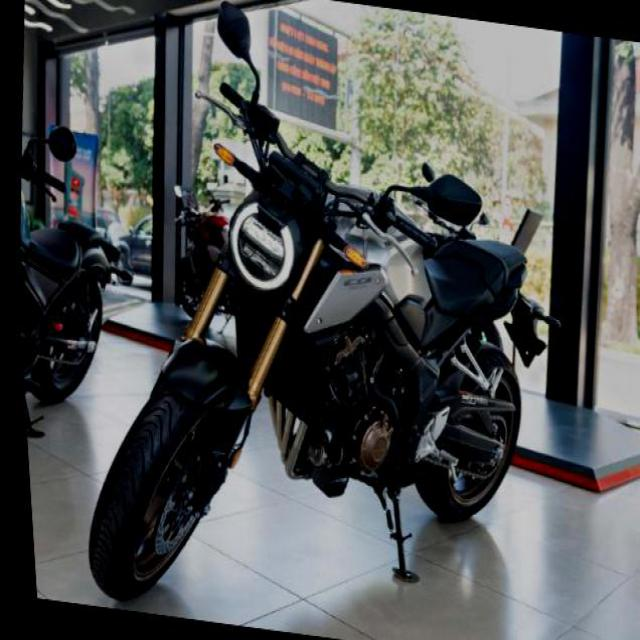CB650R: (50, 0, 596, 639)
